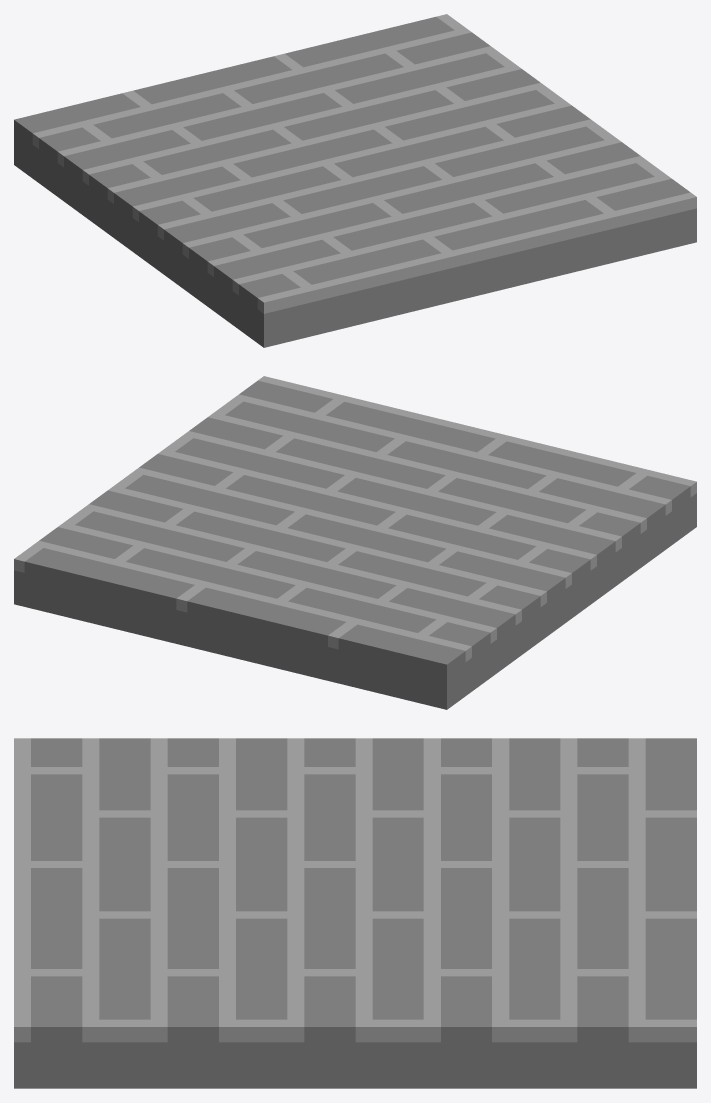
The model's file is Bricks.vox.obj.
The picture shows the model from 3 angles, top to bottom: view 1: azimuth 30°, elevation 25°; view 2: azimuth 150°, elevation 25°; view 3: azimuth 270°, elevation 25°; orthographic projection. The views are drawn at different scales.
Bounding box in the file's own units: 4 × 0.4 × 4.
Materials: 1 (1 with a texture image).
